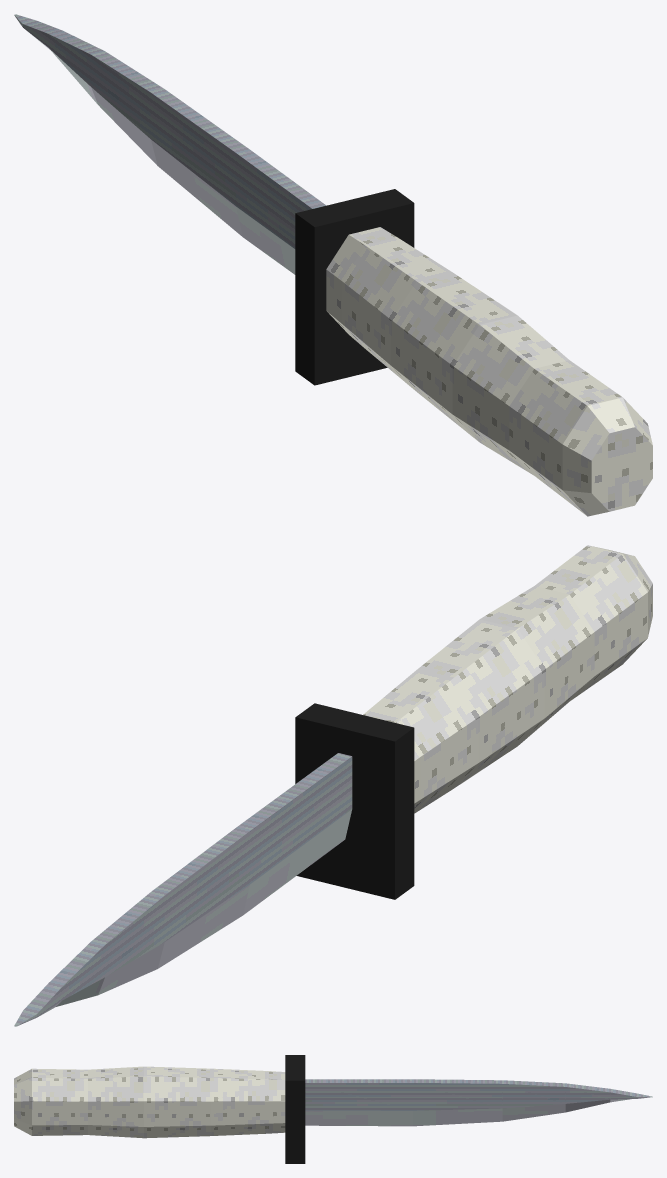
File: knife.glb
The picture shows the model from 3 angles, top to bottom: view 1: azimuth 30°, elevation 25°; view 2: azimuth 150°, elevation 25°; view 3: azimuth 270°, elevation 25°; orthographic projection. The views are drawn at different scales.
Visible parts, largest first — view 1: knife; view 2: knife; view 3: knife.
Part boxes in pixels (box(x1,y1,x2,y2)): knife: box(14, 14, 652, 516); knife: box(14, 545, 652, 1026); knife: box(14, 1055, 652, 1163).
Size of the model in its own units: 0.027 by 0.041 by 0.285.
4 materials, 4 textured.
